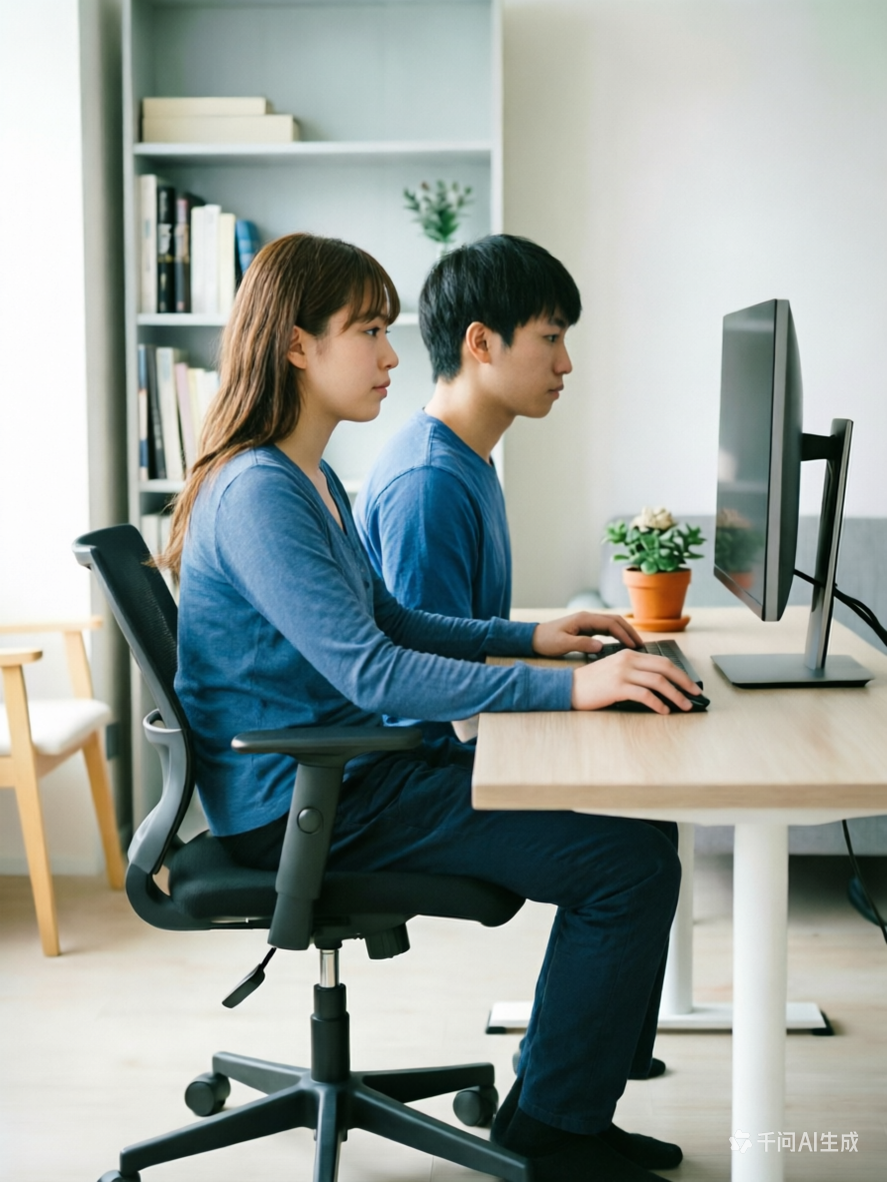sitting_good: (164, 238, 698, 1157), (354, 232, 629, 738)
